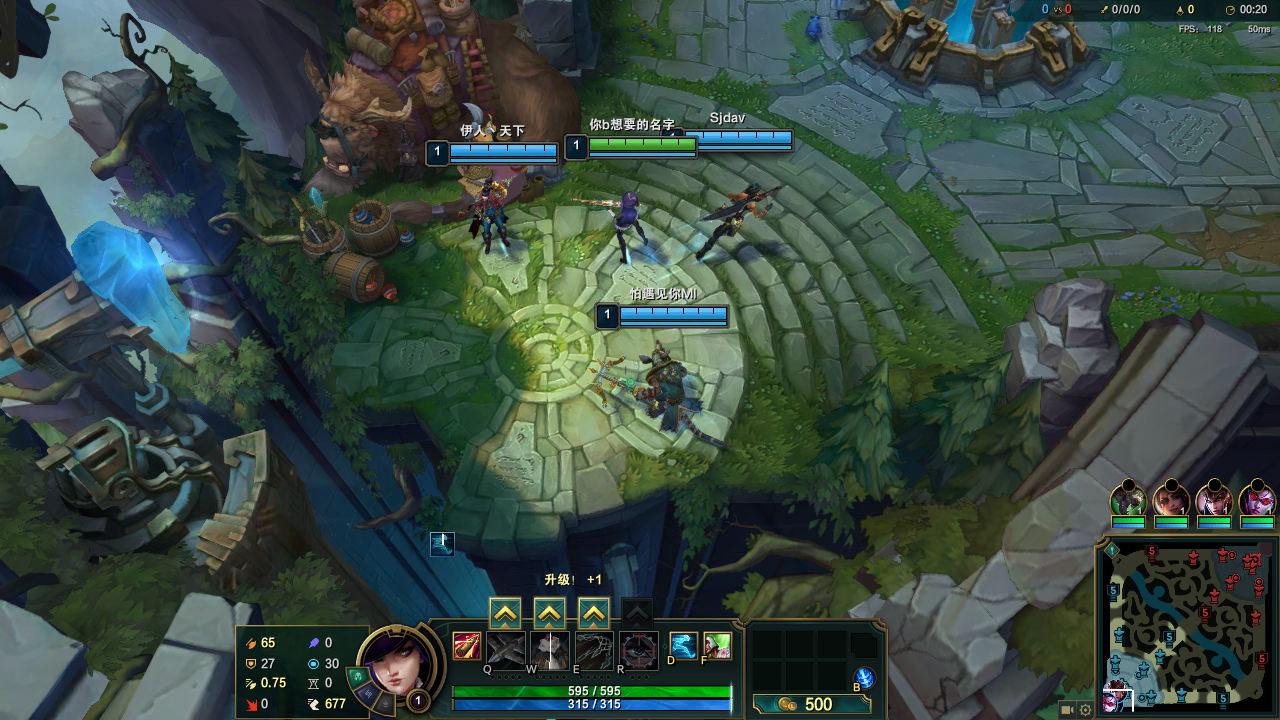Jidi: (327, 16, 557, 116)
Shenji: (493, 603, 517, 627), (536, 604, 561, 626), (583, 603, 606, 625)
WFSJ: (888, 24, 1027, 82)
Yita: (1216, 687, 1230, 707)
